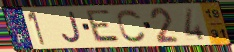1: (27, 10, 47, 47)
2: (149, 6, 182, 45)
4: (183, 7, 206, 42)
C: (116, 8, 148, 44)
E: (85, 9, 123, 44)
J: (60, 10, 83, 44)
